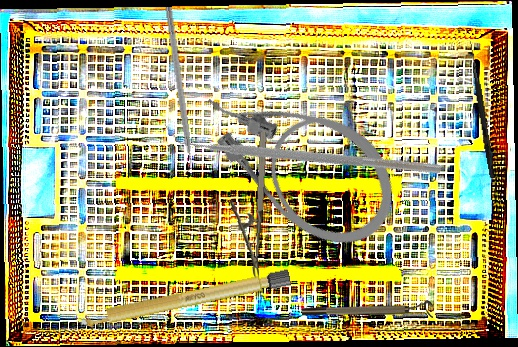Cannula: (183, 43, 418, 270)
Chopper: (164, 23, 443, 272), (156, 6, 196, 180)
Fixation Ring: (302, 300, 433, 318)
Hook Surgical: (465, 40, 498, 179)
Needle Holder: (223, 129, 272, 279)
Scalpel Handle: (76, 268, 292, 331)
